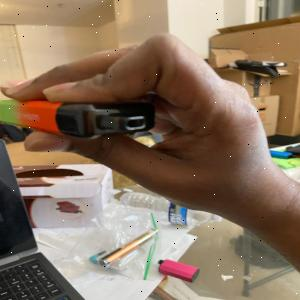Swift-E-Ciggirate: (0, 91, 158, 139)
